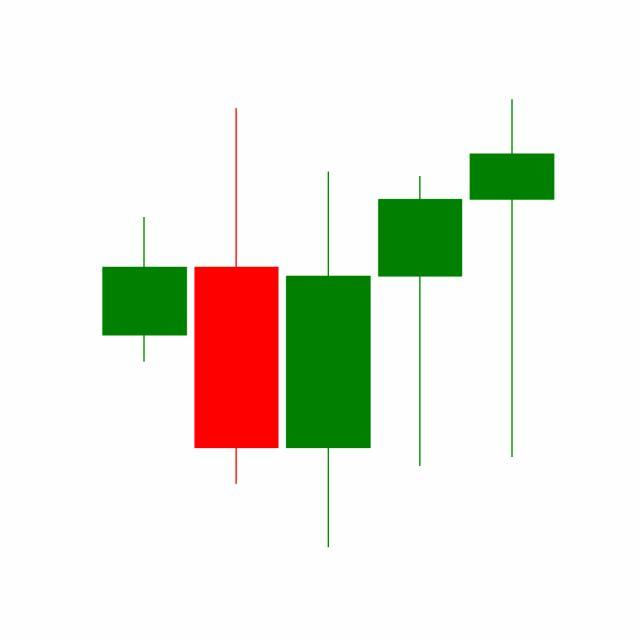Spinning Top: (466, 96, 559, 462)
